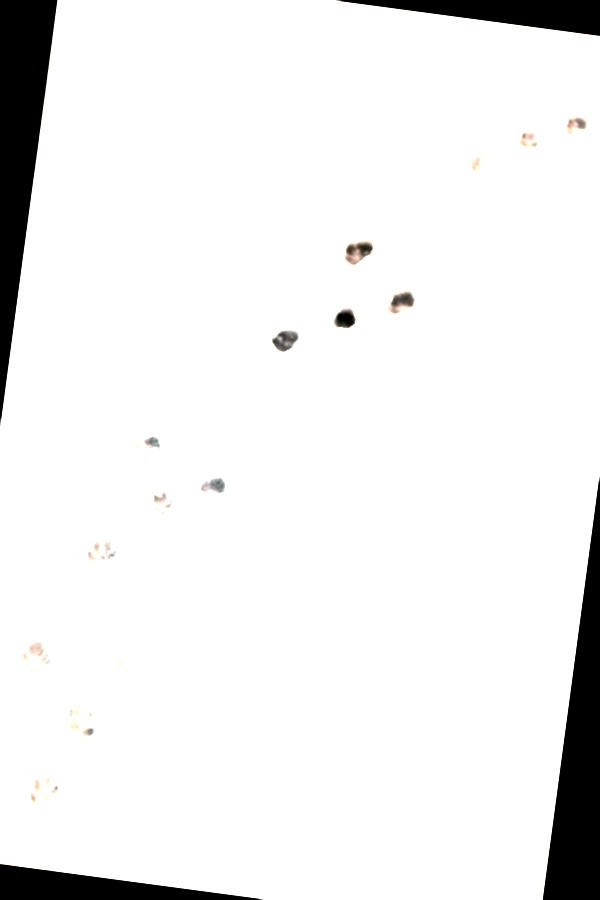lapin: (358, 477, 406, 525), (512, 662, 557, 712), (434, 443, 477, 495), (484, 800, 532, 845), (102, 21, 142, 74), (246, 218, 292, 264), (199, 263, 240, 308), (413, 503, 457, 543), (429, 674, 468, 718), (464, 723, 499, 771), (314, 319, 354, 358), (46, 69, 86, 107), (465, 558, 502, 599), (251, 296, 291, 333), (145, 114, 176, 159), (101, 91, 132, 129)
